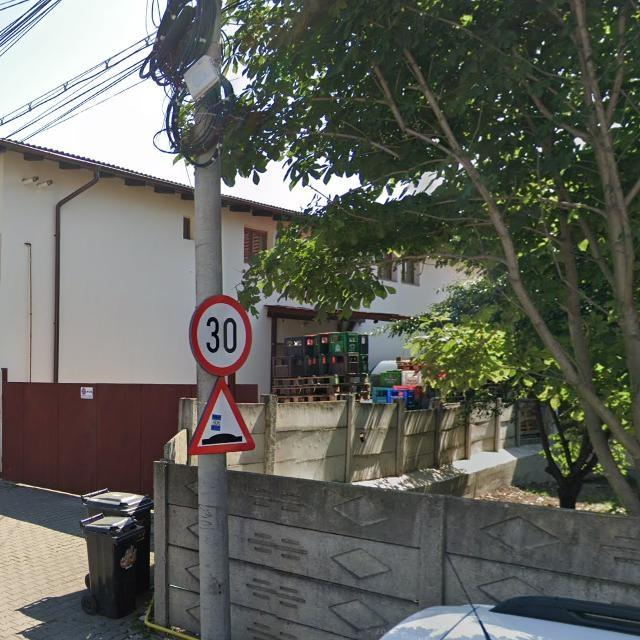forb_speed_over_30: (188, 294, 253, 376)
